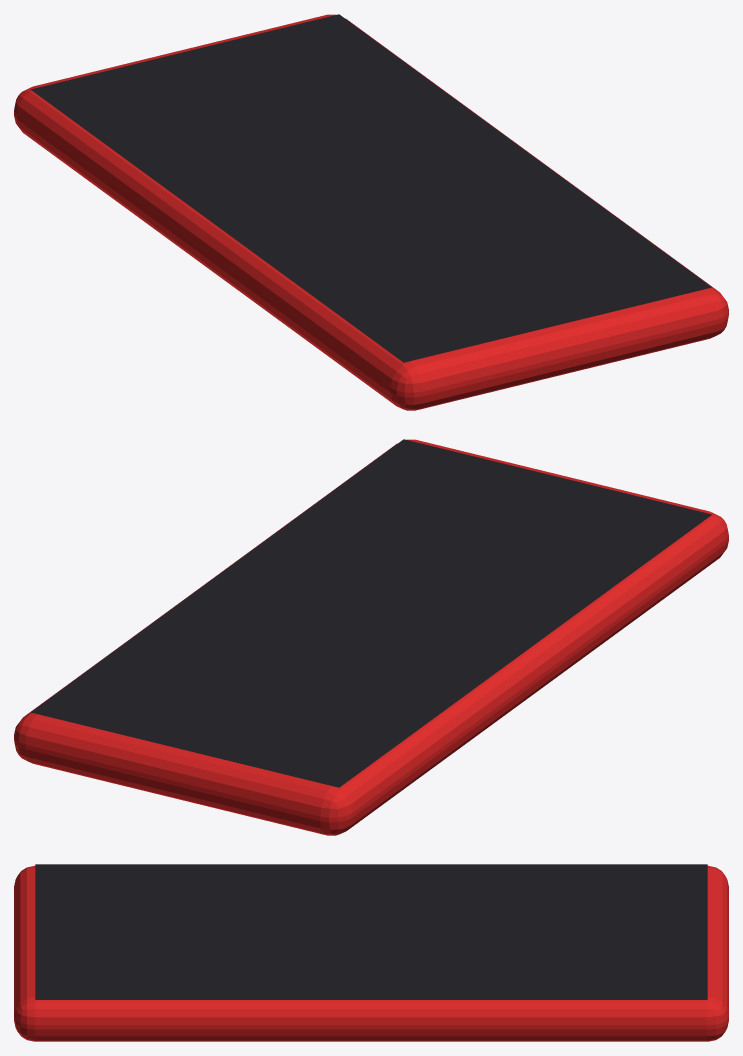
Rendered from Phone_416.glb.
3 views of the same model, one above another, from view 1: azimuth 30°, elevation 25°; view 2: azimuth 150°, elevation 25°; view 3: azimuth 270°, elevation 25° (orthographic). The views are drawn at different scales.
Parts seen in each view (by area): view 1: Phone_Screen, Phone_Body; view 2: Phone_Screen, Phone_Body; view 3: Phone_Screen, Phone_Body.
Part boxes in pixels (x1=…): Phone_Screen: x1=31, y1=14, x2=711, y2=362; Phone_Body: x1=14, y1=14, x2=728, y2=410; Phone_Screen: x1=31, y1=439, x2=711, y2=787; Phone_Body: x1=14, y1=439, x2=728, y2=835; Phone_Screen: x1=35, y1=864, x2=707, y2=999; Phone_Body: x1=14, y1=865, x2=728, y2=1041.
Bounding box in the file's own units: 0.0727 × 0.0099 × 0.149.
